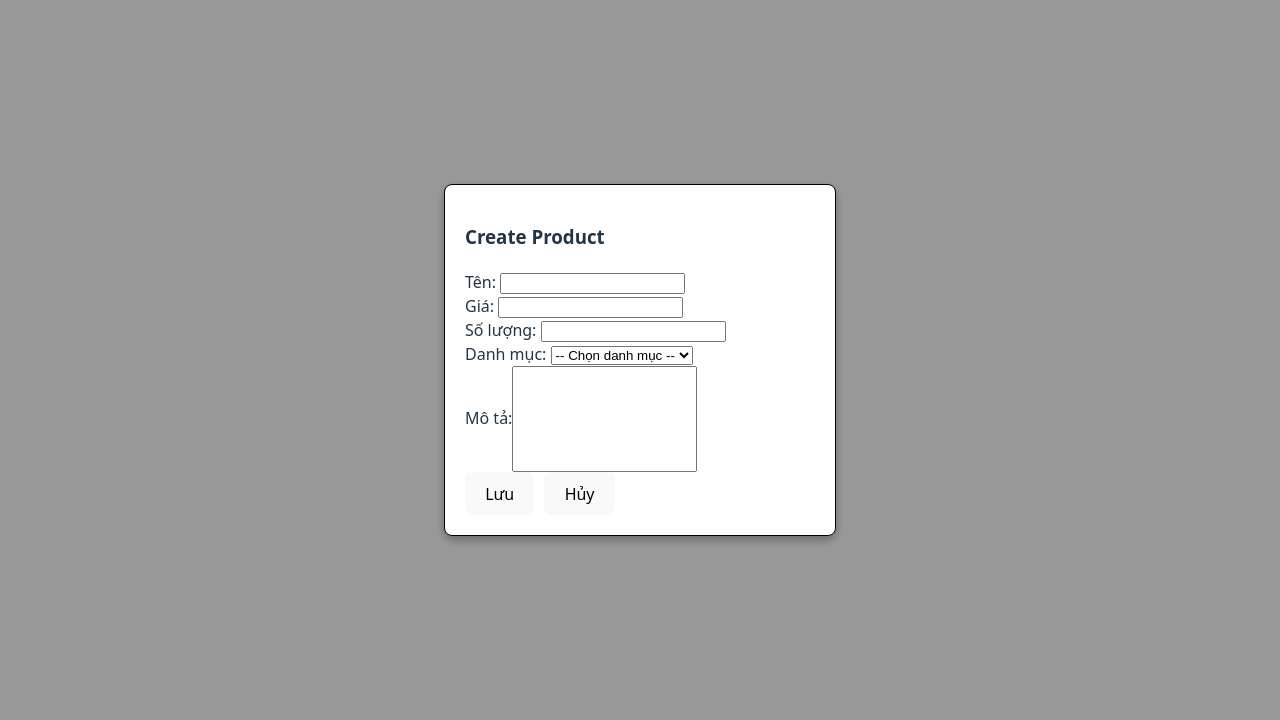
Test: Test ProductForm component (create/edit) › TC3: Hien thi loi validation khi nhap du lieu khong hop le
Nhan btn Luu ma khong nhap gi
What coordinates should you click on to do the following:
click the button with test id "Save"
I would click on:
 (500, 494)
Its box is [465,472,534,515].
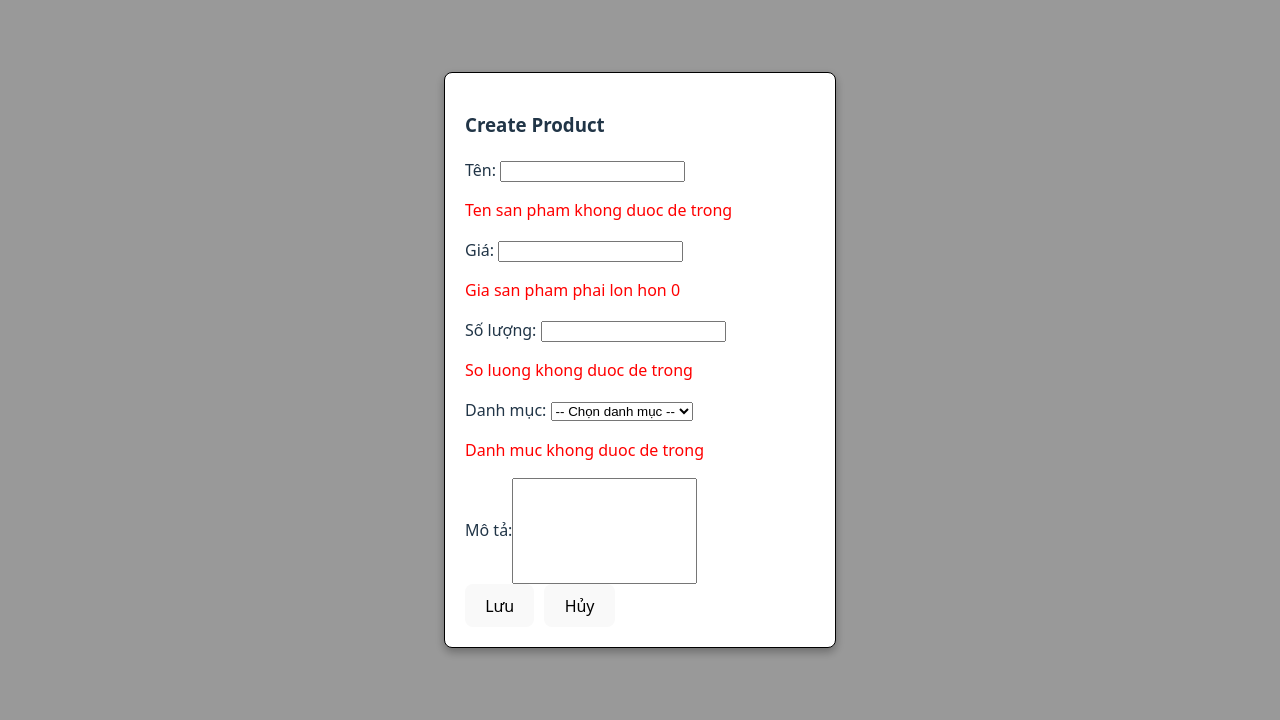
Expected: the text "Ten san pham khong duoc de trong" is shown, [465,199,732,221]
Expected: the text "Gia san pham phai lon hon 0" is shown, [465,279,680,301]
Expected: the text "So luong khong duoc de trong" is shown, [465,359,693,381]
